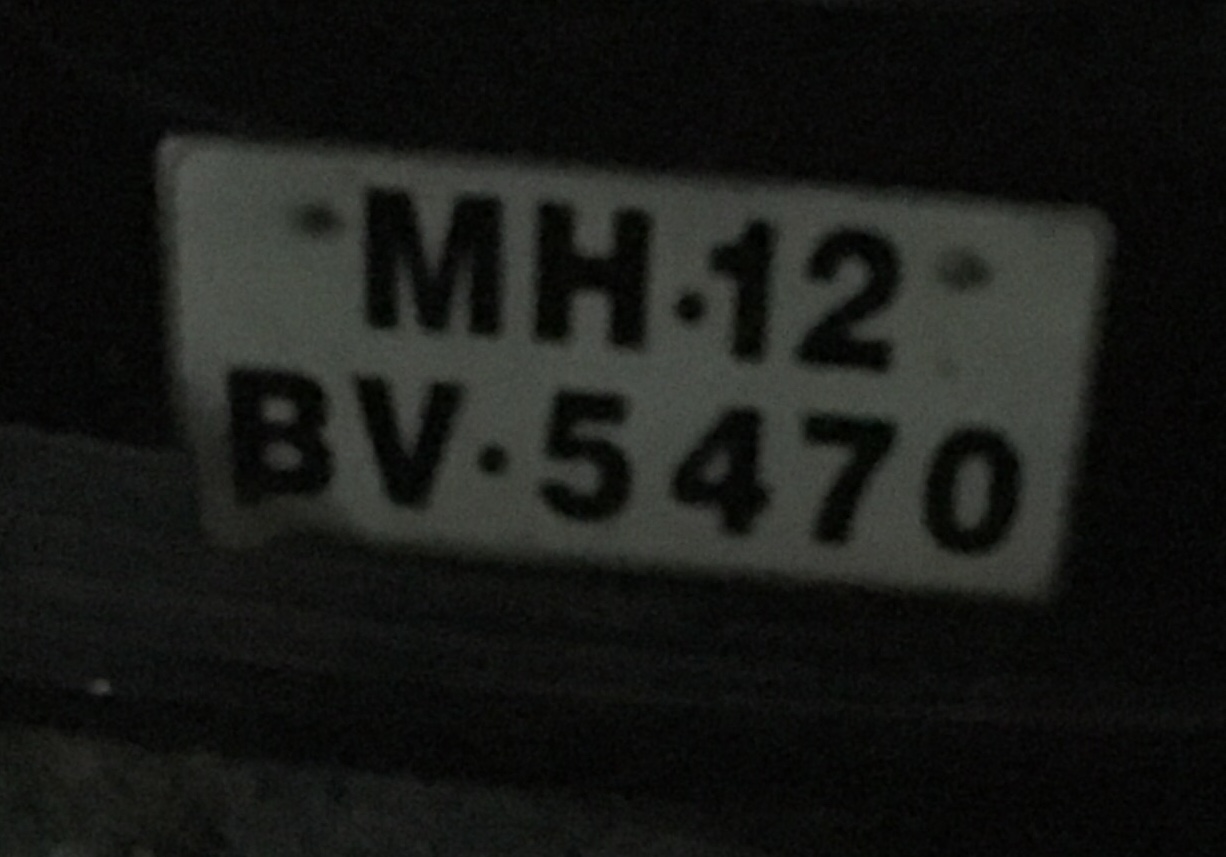doublelinenumberplate: (152, 126, 1116, 607)
